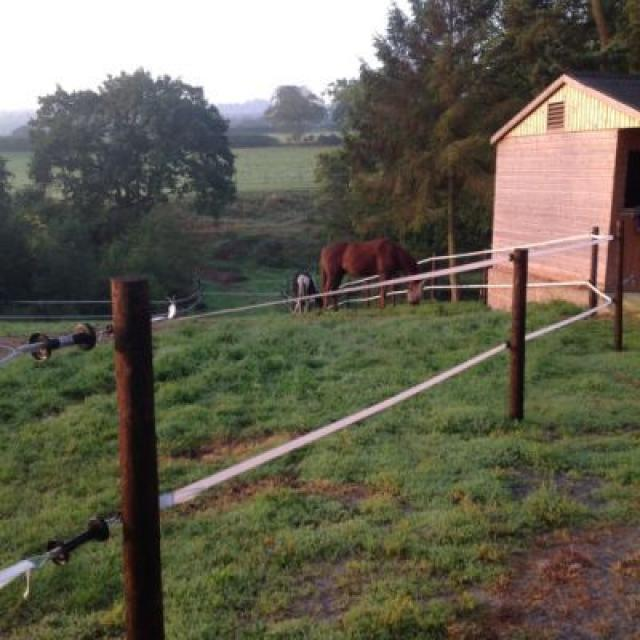fence: (0, 229, 630, 614)
